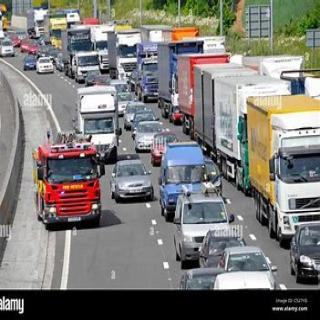Fire_truck: (34, 128, 116, 245)
